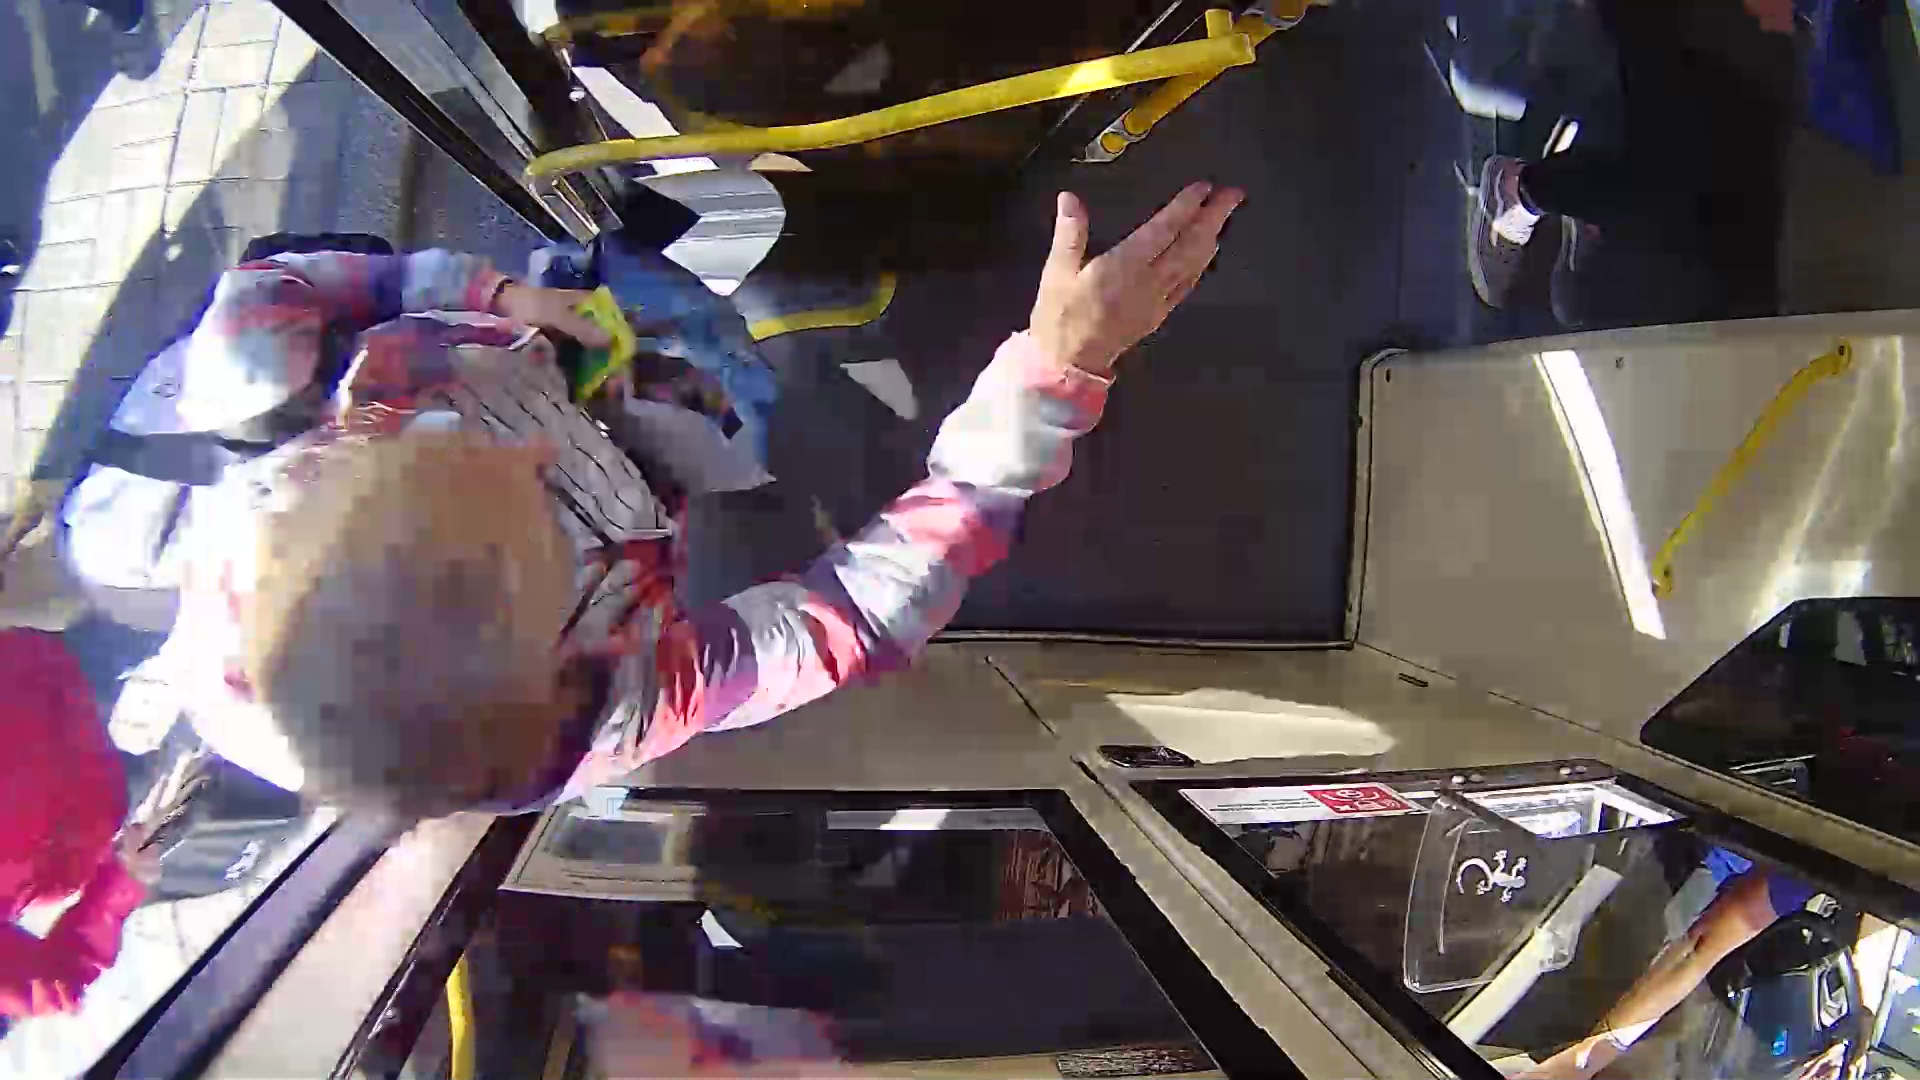person: (93, 223, 1147, 782)
